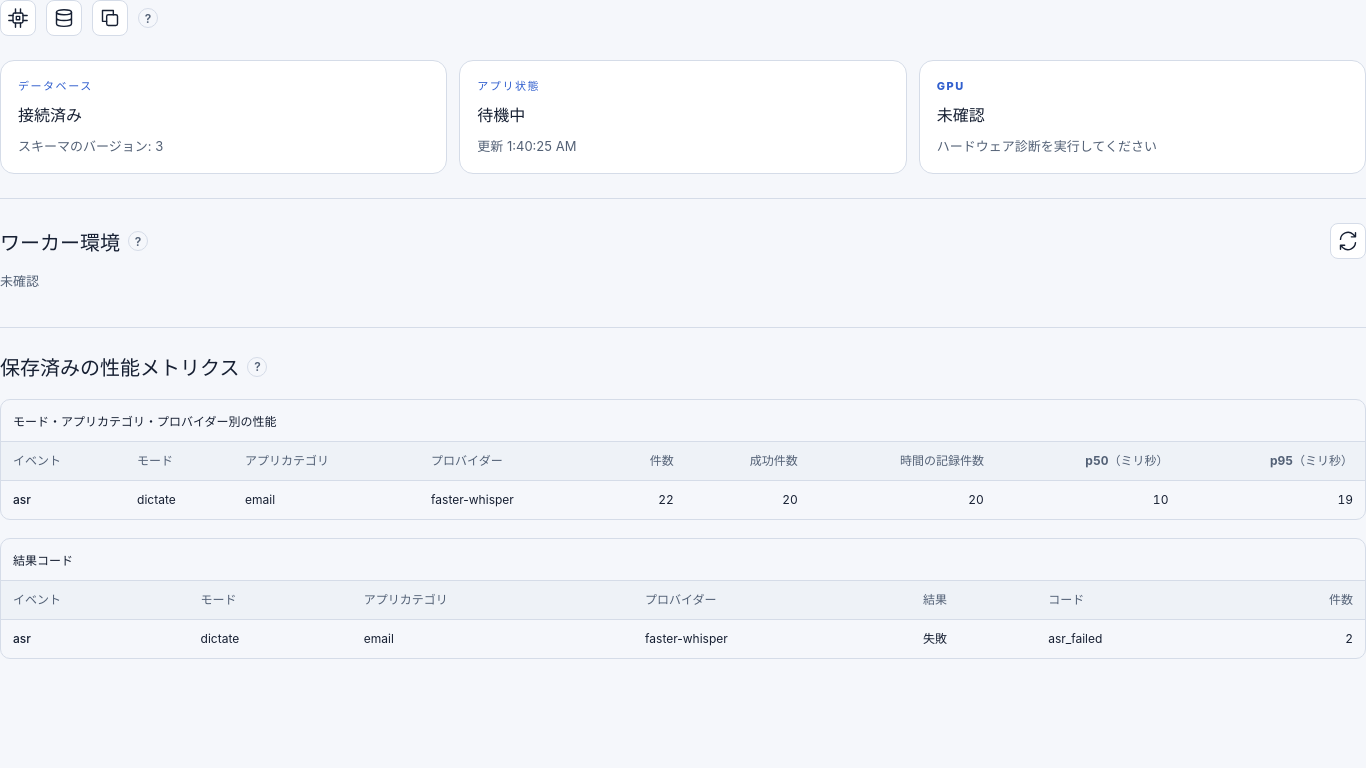
worker probe is explicit and copied metadata excludes the interpreter path
The image size is (1366, 768).
Check: the table "モード・アプリカテゴリ・プロバイダー別の性能" is shown, box [1,400,1365,519]
Click the button named "ワーカー環境を検査": (1348, 241) [1330,223,1365,259]
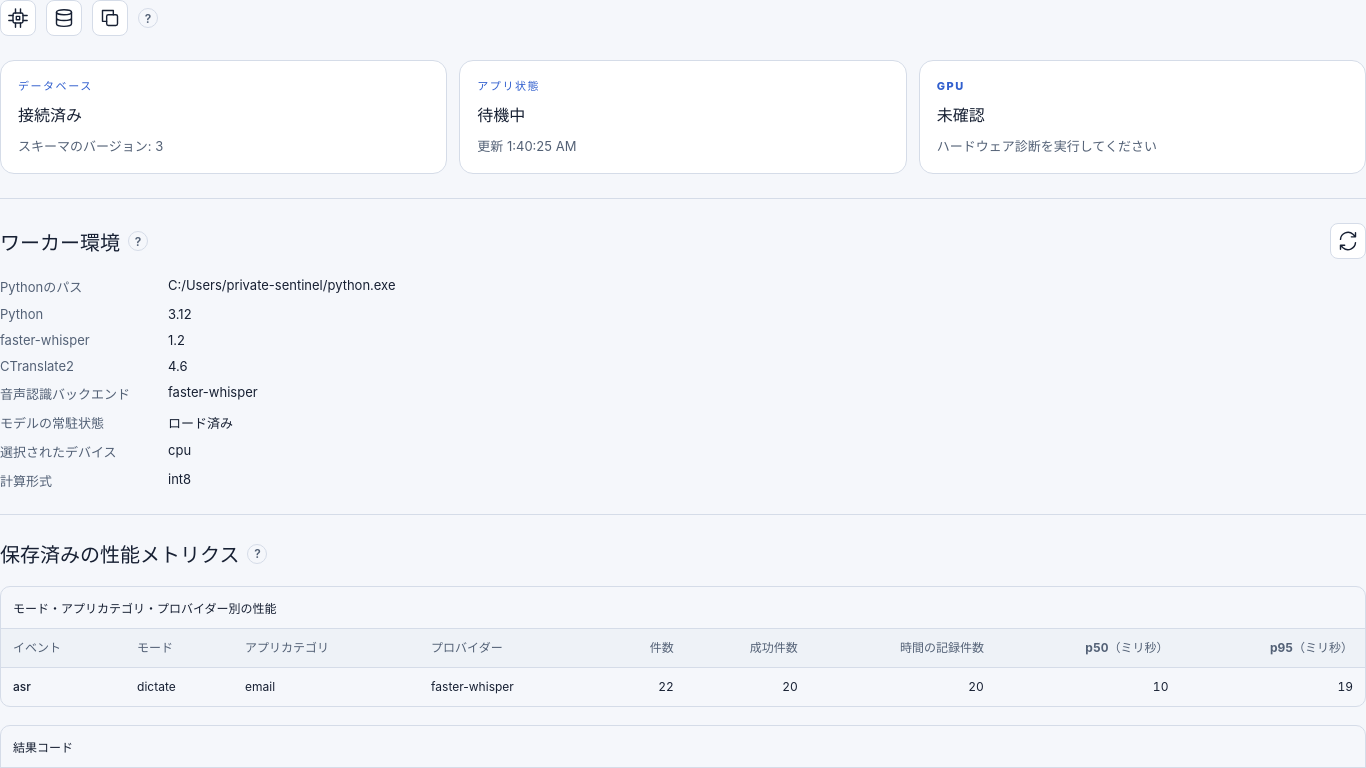
Check: the text "int8" is shown, box [168,471,191,487]
Check: the text "C:/Users/private-sentinel/python.exe" is shown, box [168,277,396,293]
Click the button named "診断結果をコピー": (110, 18) [92,0,128,36]
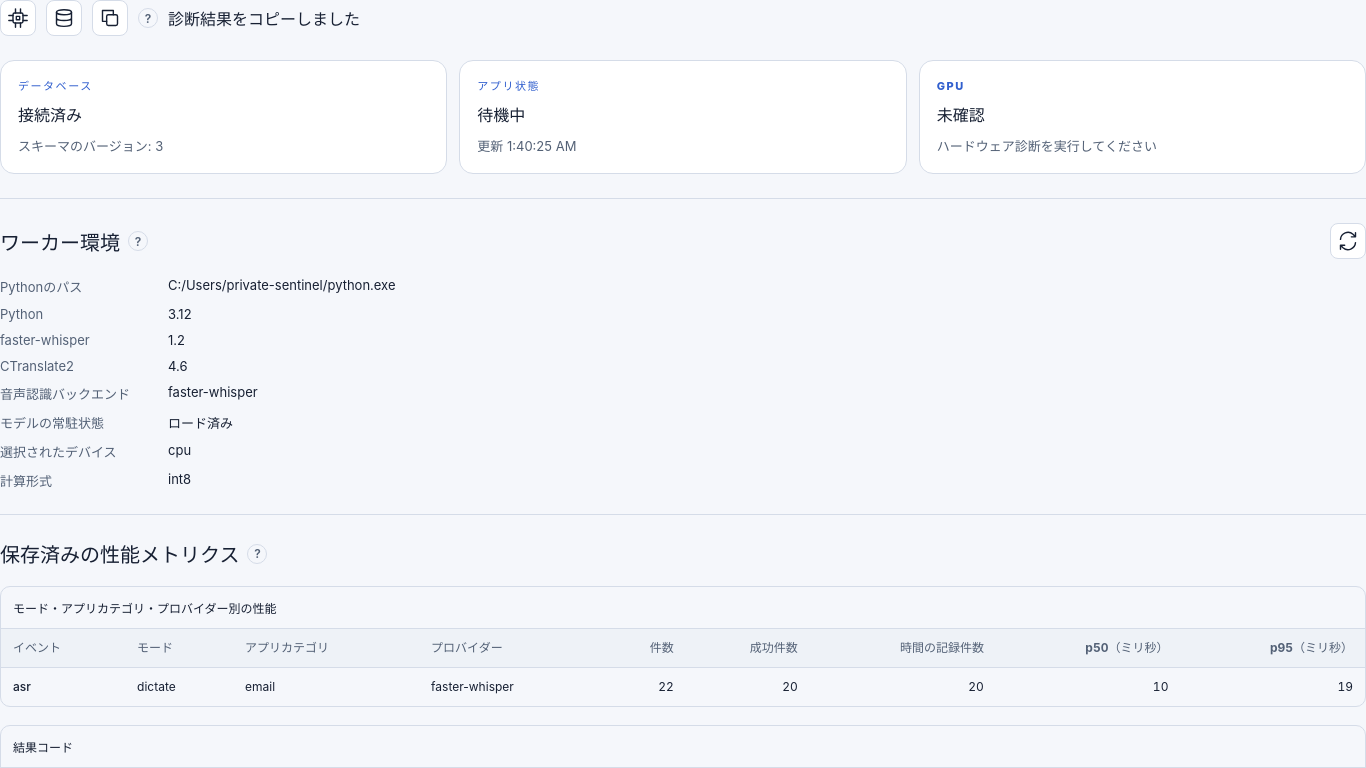
Check: the text "診断結果をコピーしました" is shown, box [168,6,360,30]
